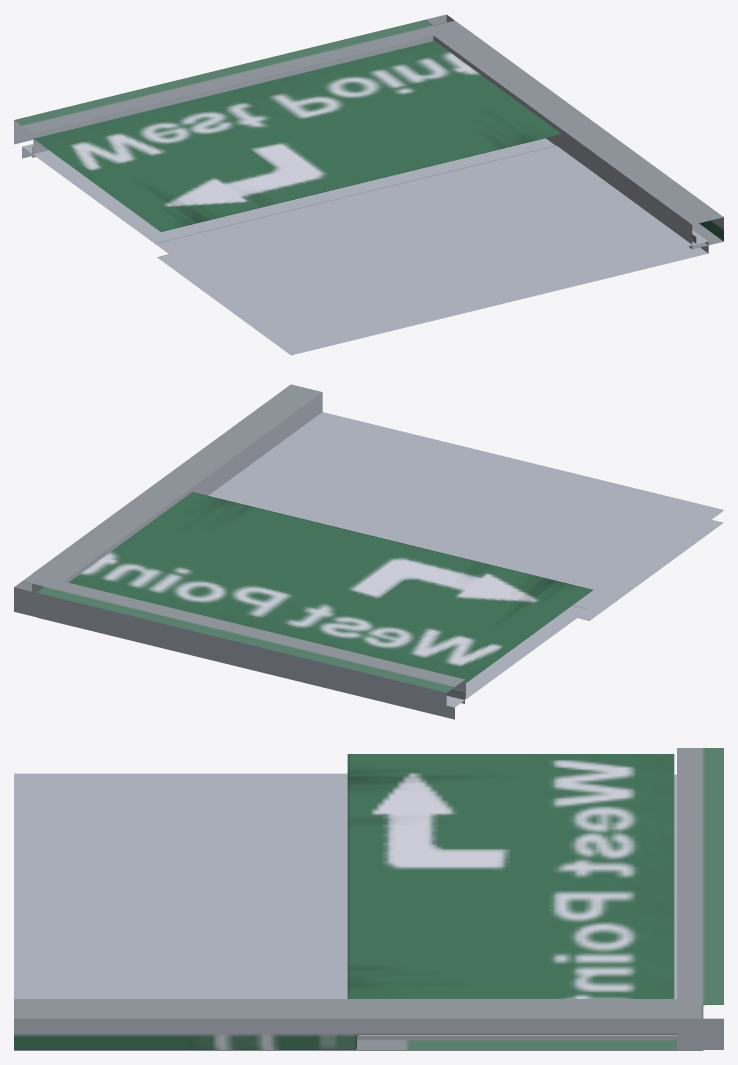
File: section-1.obj
The picture shows the model from 3 angles, top to bottom: view 1: azimuth 30°, elevation 25°; view 2: azimuth 150°, elevation 25°; view 3: azimuth 270°, elevation 25°; orthographic projection. The views are drawn at different scales.
Bounding box in the file's own units: 0.9435 × 0.068 × 1.05.
